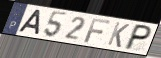2: (63, 17, 86, 42)
5: (43, 10, 70, 39)
A: (17, 9, 43, 36)
F: (83, 18, 112, 44)
K: (106, 21, 131, 50)
P: (122, 23, 154, 51)
